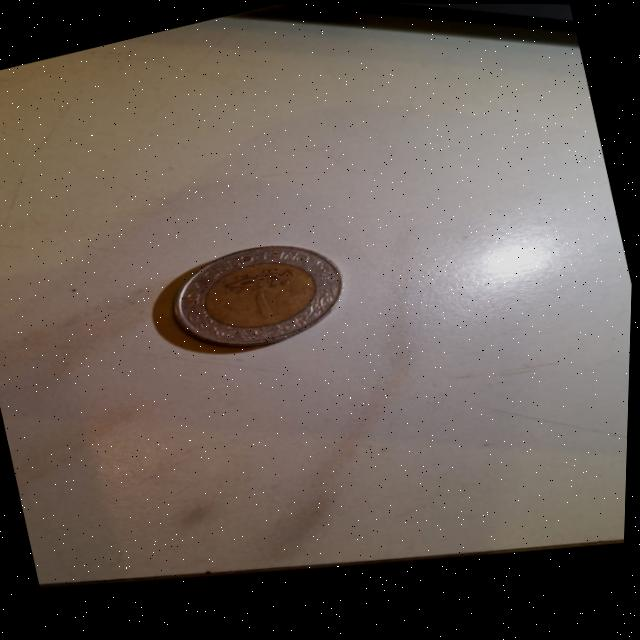One Pound: (143, 213, 370, 377)
